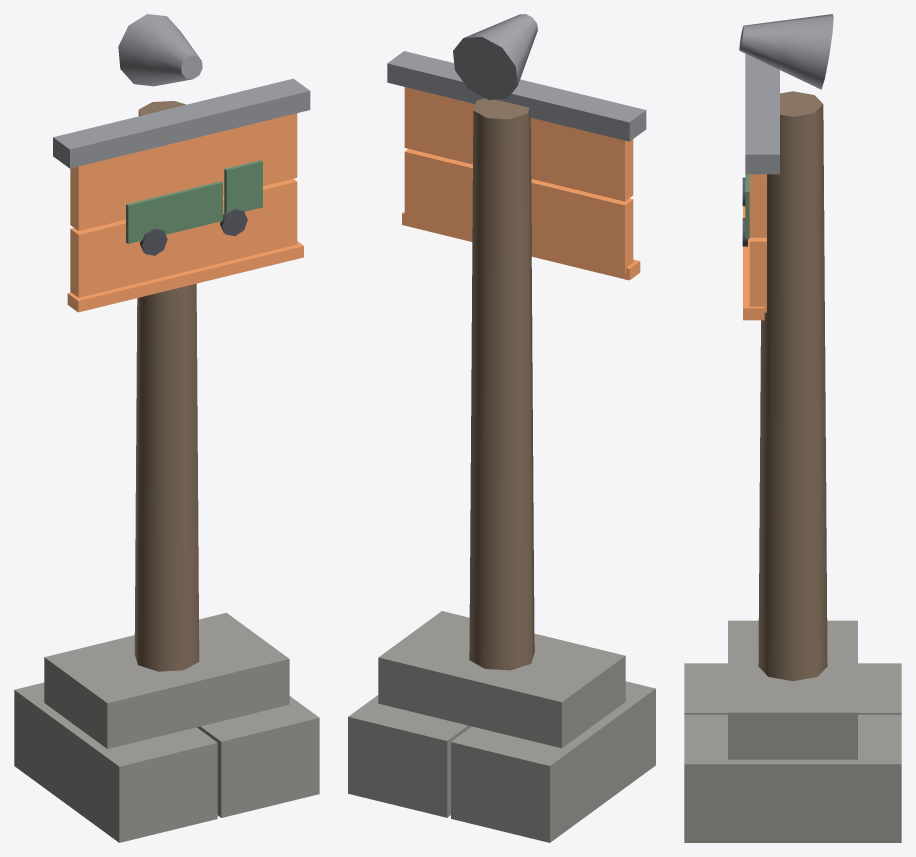
The model's file is build_truck_caller.glb.
The picture shows the model from 3 angles, left to right: view 1: azimuth 30°, elevation 25°; view 2: azimuth 150°, elevation 25°; view 3: azimuth 270°, elevation 25°; orthographic projection. The views are drawn at different scales.
Visible parts, largest first — view 1: Baked; view 2: Baked; view 3: Baked.
Boxes of the visible parts, left/top/right/bottom form: Baked: left=14, top=14, right=319, bottom=842; Baked: left=348, top=14, right=655, bottom=842; Baked: left=684, top=14, right=901, bottom=842.
Bounding box in the file's own units: 0.66 × 1.97 × 0.5.
